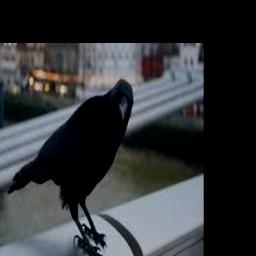Crow: (7, 80, 133, 256)
